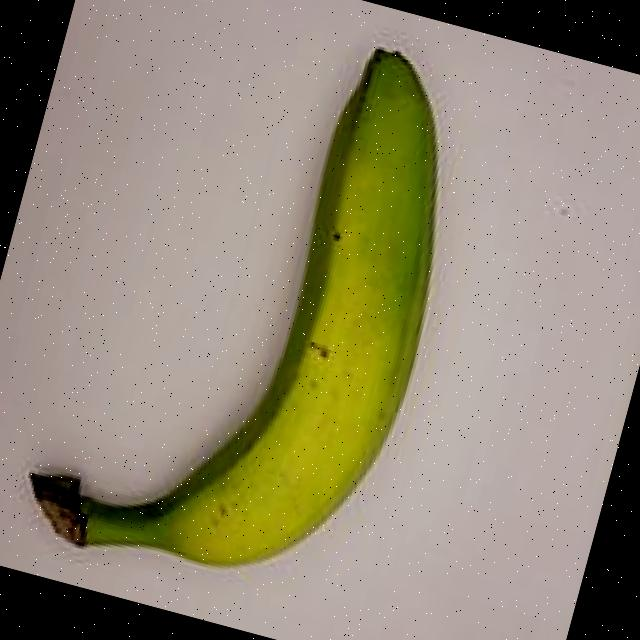Unripe: (0, 0, 522, 634)
